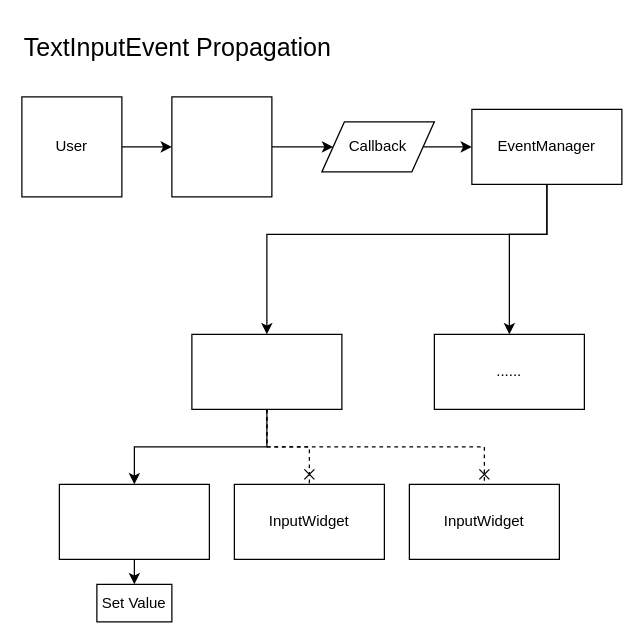
The diagram is 644 pixels wide and 644 high, and some of its shapes have lost their labels. Here are the shapes that lost their labels. From the top down, the centre of each, then its label:
At [221,146]: "GLFW".
At [266,371]: "WidgetManager".
At [133,521]: "InputWidget (Focus)".
